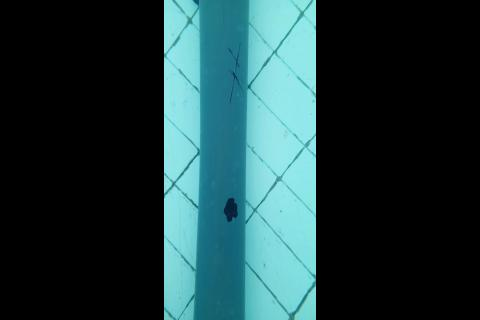kebocoran: (222, 197, 239, 223)
keretakan: (228, 43, 243, 102)
